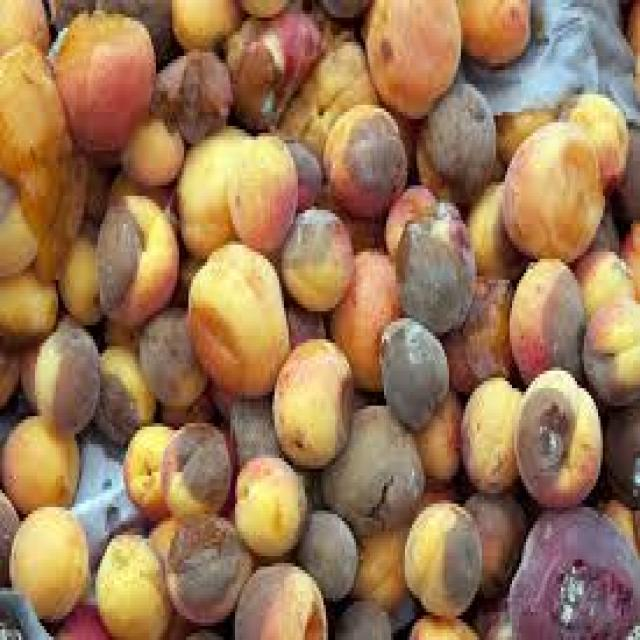biodegradable: (503, 504, 638, 637), (47, 0, 154, 161), (186, 235, 286, 396), (317, 395, 424, 532), (500, 119, 603, 252), (221, 10, 328, 126), (515, 364, 601, 504), (270, 35, 377, 140), (265, 336, 349, 469), (360, 0, 456, 115), (93, 189, 177, 318), (326, 245, 403, 385), (173, 112, 252, 248), (163, 504, 251, 619), (412, 80, 493, 203), (5, 504, 89, 619), (396, 196, 470, 325), (505, 252, 582, 374), (0, 38, 67, 178), (403, 497, 480, 616), (223, 395, 312, 497), (91, 528, 170, 637), (321, 105, 403, 210), (28, 308, 98, 430), (459, 371, 524, 497), (42, 0, 172, 63), (347, 514, 417, 630), (0, 409, 79, 511), (226, 126, 296, 241), (377, 311, 447, 423), (277, 203, 351, 308), (233, 556, 328, 637), (442, 276, 512, 385), (554, 91, 626, 196), (138, 304, 210, 409), (14, 147, 70, 276), (158, 413, 228, 511), (580, 294, 638, 409), (461, 486, 521, 595), (151, 46, 228, 130), (293, 507, 356, 602), (93, 339, 154, 437), (463, 171, 521, 273), (100, 171, 179, 238), (454, 0, 531, 63), (124, 420, 175, 511), (415, 381, 459, 486), (570, 241, 631, 315), (56, 217, 100, 318), (596, 402, 638, 507), (0, 266, 58, 339), (117, 112, 182, 171), (384, 182, 438, 252), (568, 193, 619, 263), (168, 0, 238, 49), (489, 105, 552, 157), (58, 136, 89, 238), (607, 126, 638, 227), (0, 175, 33, 266), (407, 122, 447, 196), (0, 0, 49, 56), (282, 136, 319, 210), (209, 371, 263, 420), (333, 595, 389, 637), (594, 490, 638, 539), (410, 472, 459, 514), (282, 301, 324, 350), (0, 483, 19, 588), (340, 199, 382, 245), (98, 315, 144, 357), (51, 602, 105, 637), (405, 612, 477, 637), (163, 612, 230, 637), (14, 332, 37, 402), (621, 0, 638, 91), (621, 213, 638, 301), (470, 595, 505, 637), (144, 507, 177, 549), (0, 336, 19, 406), (237, 0, 297, 17), (315, 0, 366, 14)
